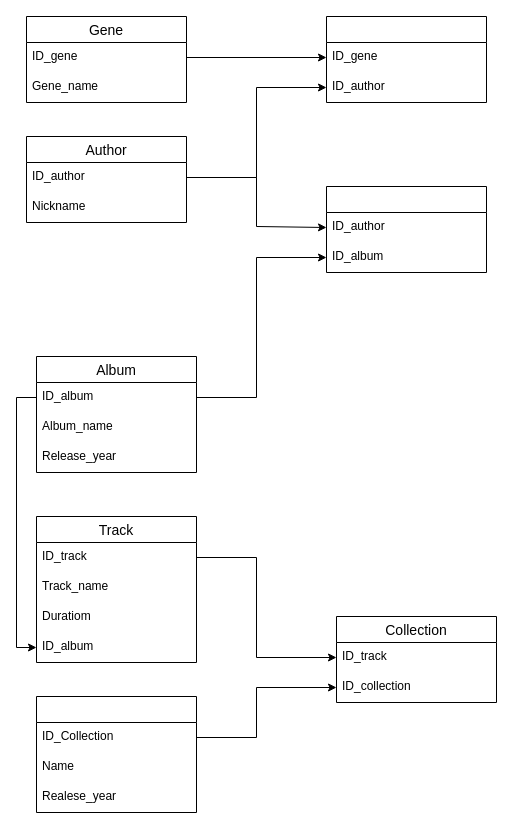
This 513x829 diagram has some shape labels left out. The box of each missing label's shape, as (x1, y1, x2, y2) in pixels:
Album_authors: (326, 186, 486, 272)
Authot_gene_llist: (326, 16, 486, 102)
Collection_info: (36, 696, 196, 812)
